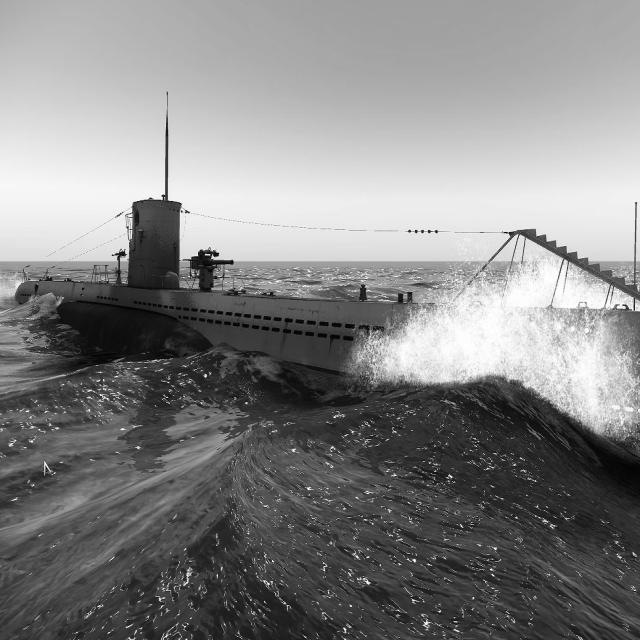submarine: (9, 86, 640, 493)
